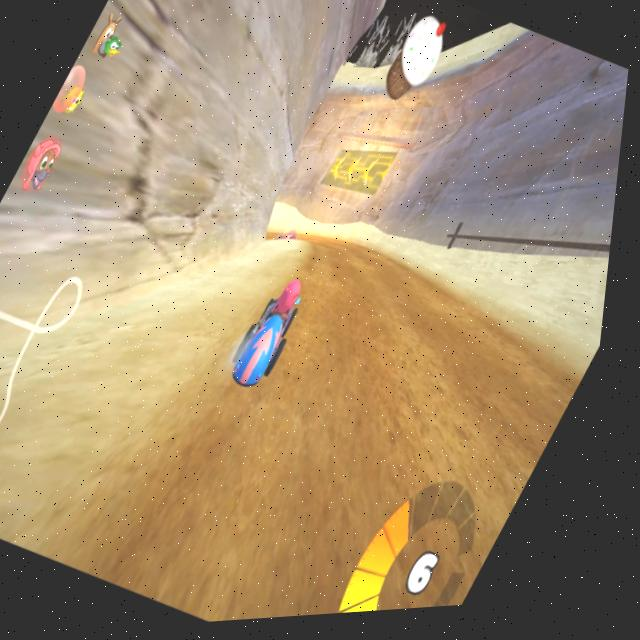player_kart: (229, 272, 328, 398)
track: (301, 231, 413, 320)
